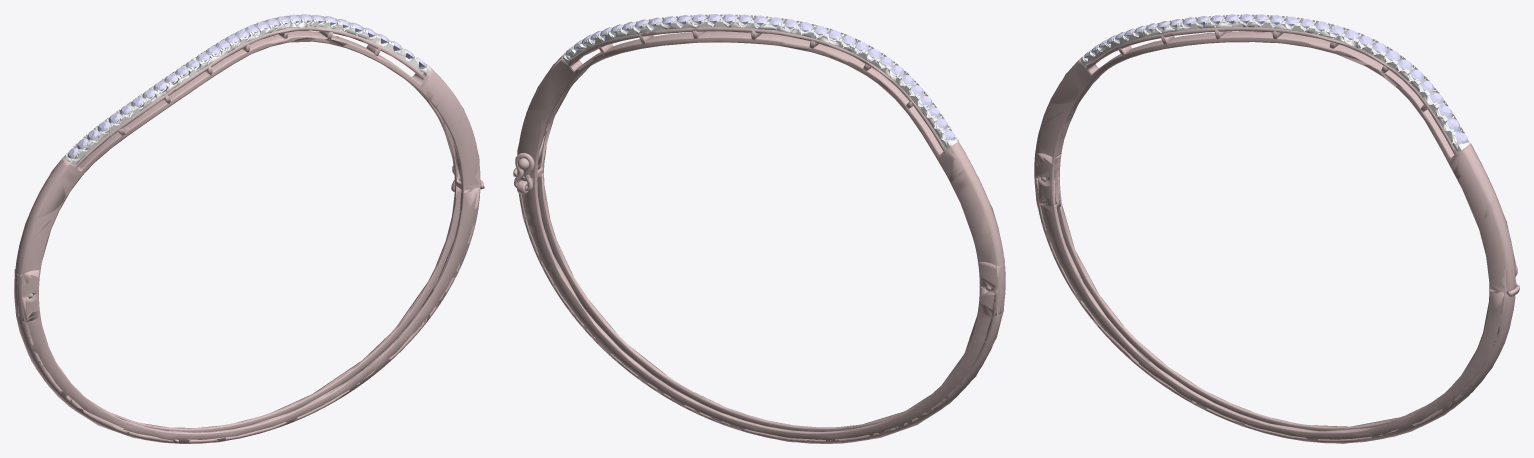
The model's file is DBR-D000563895.glb.
3 renders of one model, left to right at view 1: azimuth 30°, elevation 25°; view 2: azimuth 150°, elevation 25°; view 3: azimuth 330°, elevation 25°, orthographic. The views are drawn at different scales.
Visible parts, largest first — view 1: highPolyMesh, lowPolyMesh; view 2: highPolyMesh, lowPolyMesh; view 3: highPolyMesh, lowPolyMesh.
Part boxes in pixels (x1,y1,x2,y2): highPolyMesh: [14, 14, 483, 443]; lowPolyMesh: [14, 14, 484, 443]; highPolyMesh: [513, 14, 1005, 443]; lowPolyMesh: [513, 14, 1005, 443]; highPolyMesh: [1034, 14, 1519, 443]; lowPolyMesh: [1034, 14, 1519, 443].
Bounding box in the file's own units: 0.0648 × 0.0533 × 0.00824.
